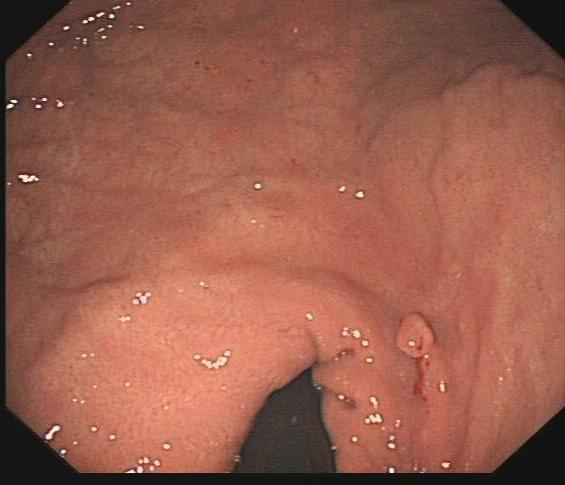Polyp: (390, 308, 447, 361)
